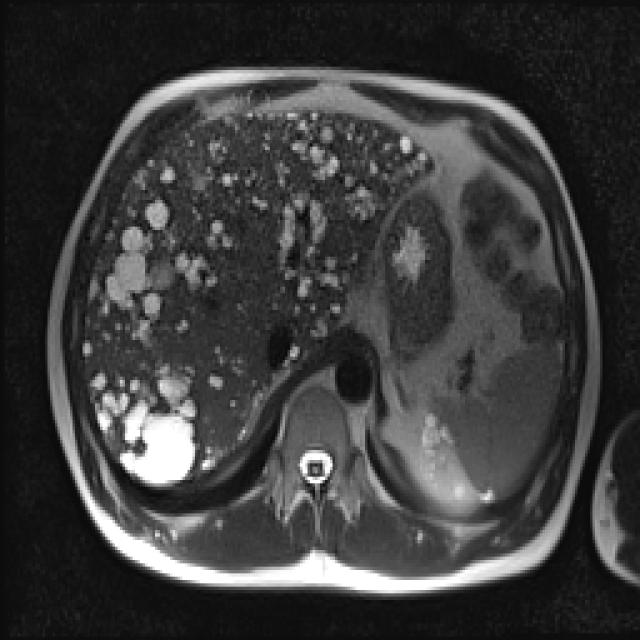sol: (422, 410, 468, 502)
